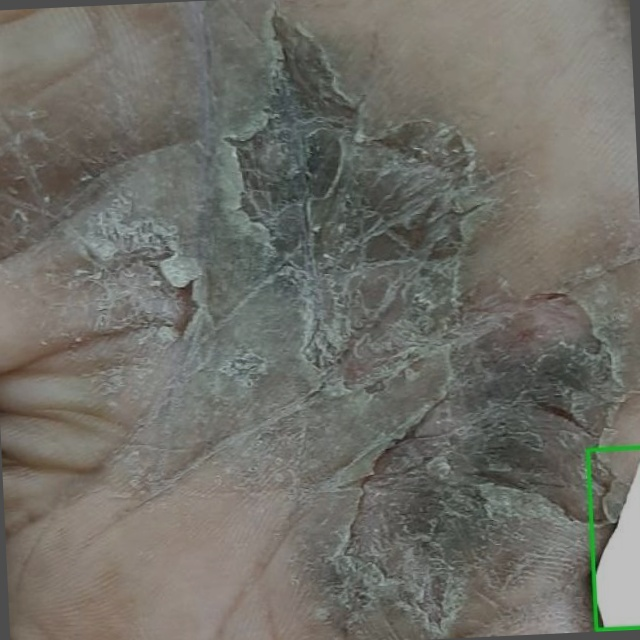Contact Dermatitis: (587, 448, 639, 630)
